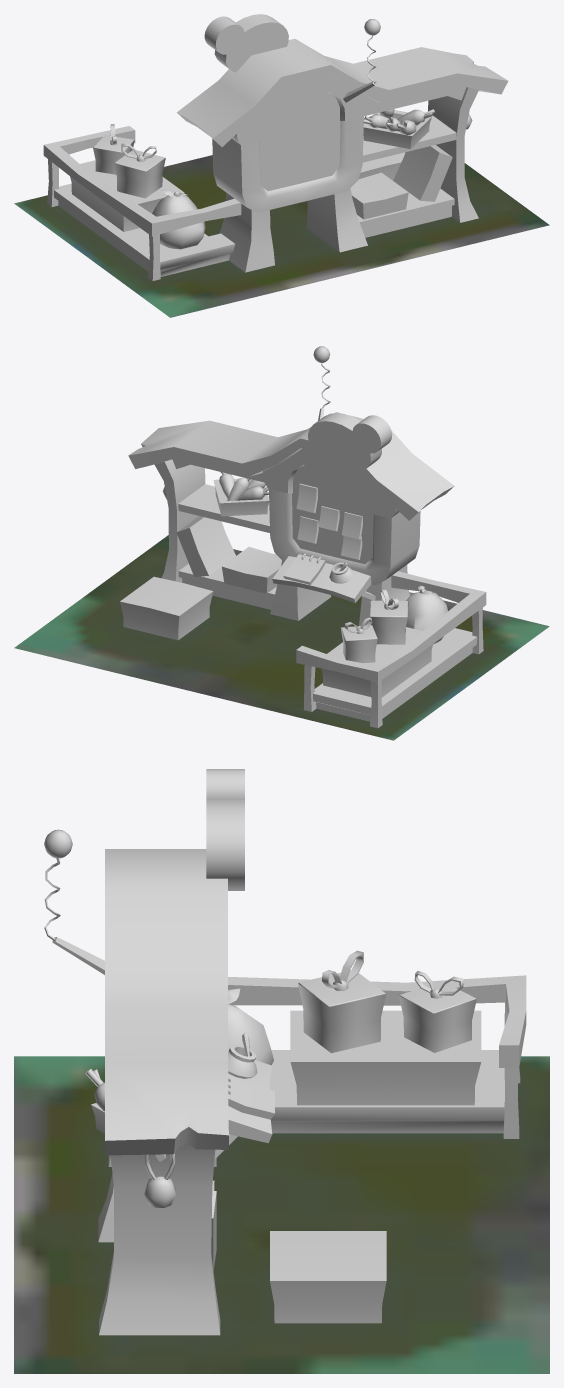
File: P_build_1003_new.fbx
3 renders of one model, top to bottom at view 1: azimuth 30°, elevation 25°; view 2: azimuth 150°, elevation 25°; view 3: azimuth 270°, elevation 25°, orthographic. The views are drawn at different scales.
Parts seen in each view (by area): view 1: S_build_1003_new_a, S_build_1003_new_b; view 2: S_build_1003_new_a, S_build_1003_new_b; view 3: S_build_1003_new_a, S_build_1003_new_b.
Boxes of the visible parts, left/top/right/bottom form: S_build_1003_new_a: left=43, top=14, right=508, bottom=280; S_build_1003_new_b: left=14, top=116, right=549, bottom=317; S_build_1003_new_a: left=120, top=346, right=486, bottom=728; S_build_1003_new_b: left=14, top=535, right=549, bottom=740; S_build_1003_new_a: left=44, top=769, right=526, bottom=1335; S_build_1003_new_b: left=14, top=1056, right=549, bottom=1373.
Size of what is drawn, in the model's own units: 5.07 by 3.04 by 3.61.
